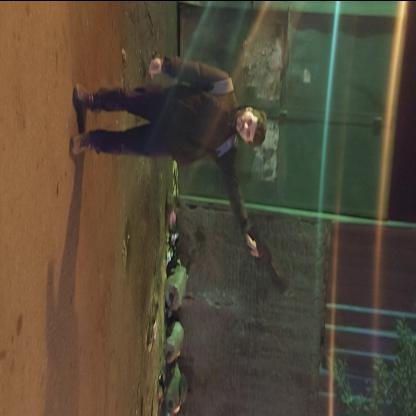long weapon: (240, 216, 292, 310)
